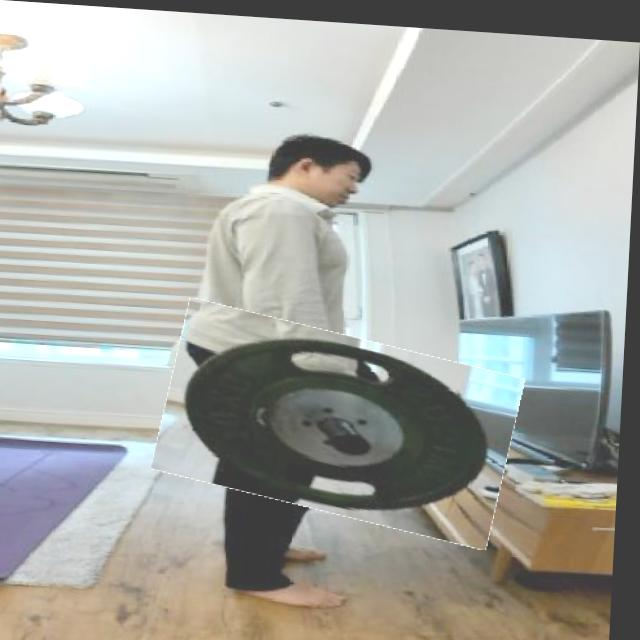barbell: (161, 308, 525, 531)
